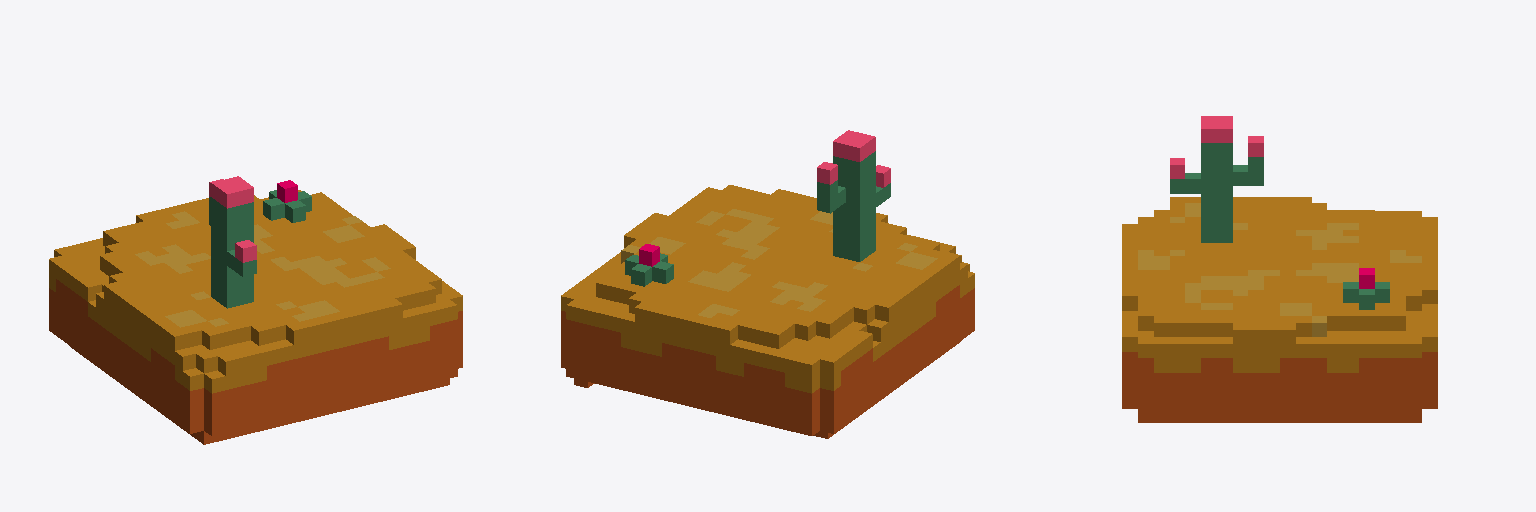
3 renders of one model, left to right at view 1: azimuth 30°, elevation 25°; view 2: azimuth 150°, elevation 25°; view 3: azimuth 270°, elevation 25°, orthographic.
Visible parts, largest first — view 1: object 1; view 2: object 1; view 3: object 1.
Boxes of the visible parts, x1=… form: object 1: x1=49, y1=176, x2=462, y2=444; object 1: x1=561, y1=130, x2=974, y2=438; object 1: x1=1122, y1=116, x2=1437, y2=422.
Bounding box in the file's own units: 2 × 1.5 × 2.
Materials: 1 (1 with a texture image).